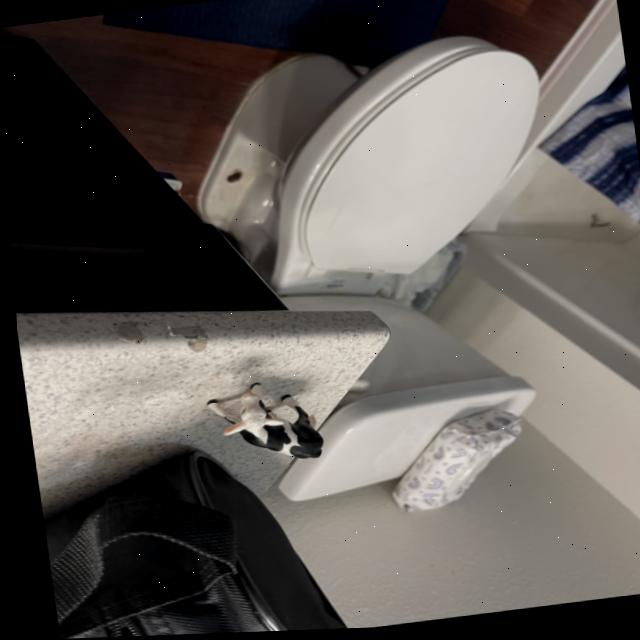cow: (194, 371, 331, 470)
